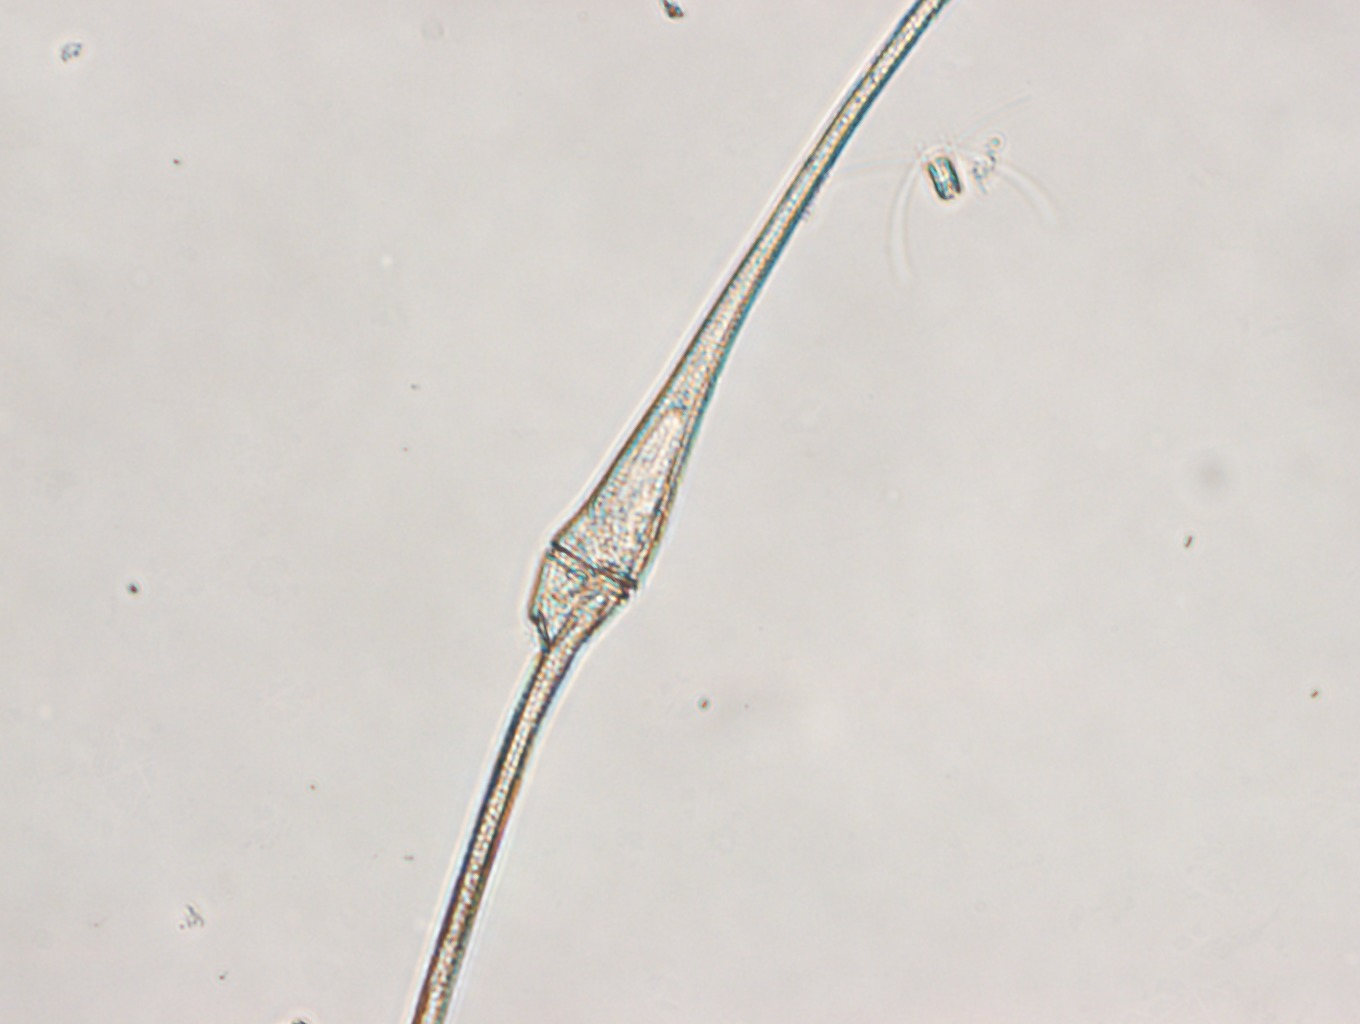ceratium fusus: (409, 1, 945, 1024)
